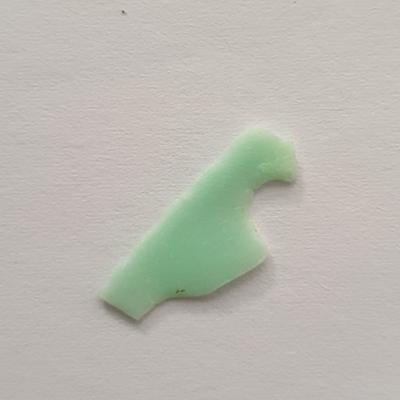plastic: (92, 121, 304, 328)
